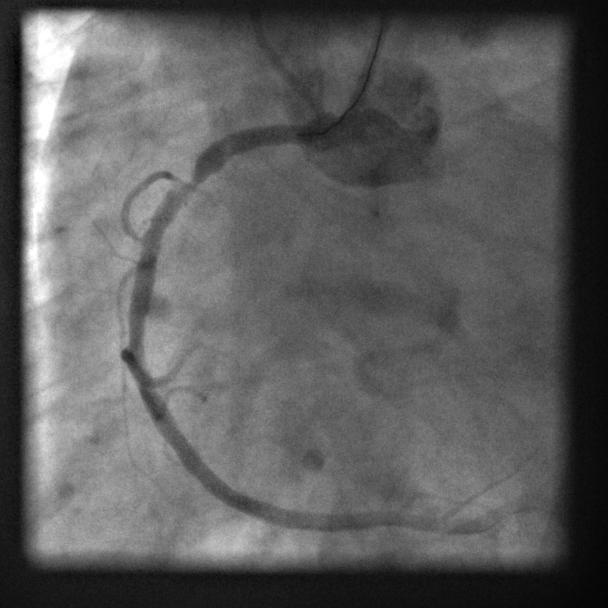Stenosis: (167, 162, 205, 204)
